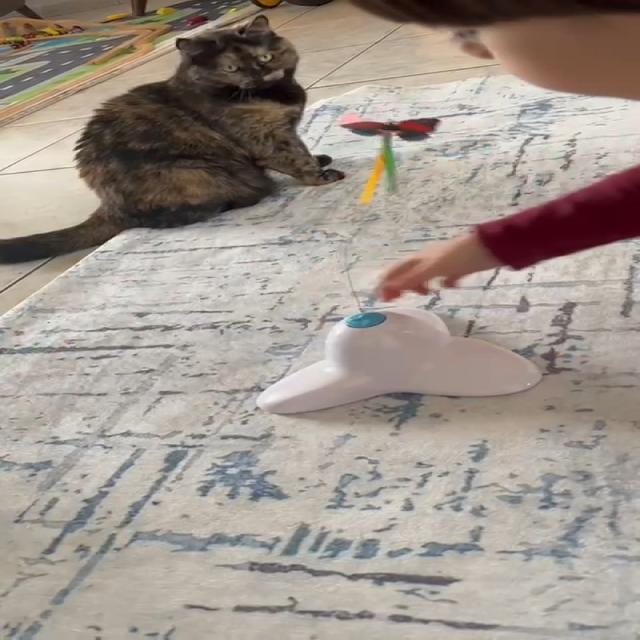authorized: (0, 12, 345, 264)
